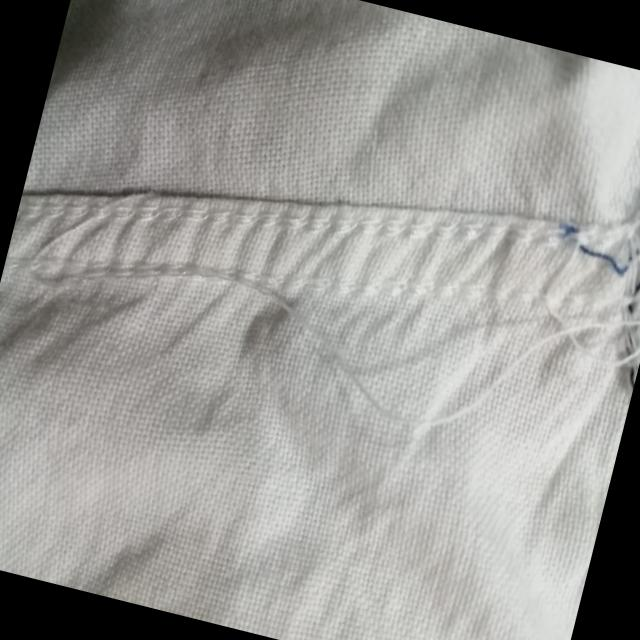gray stitch: (301, 151, 640, 362), (5, 132, 318, 336)
